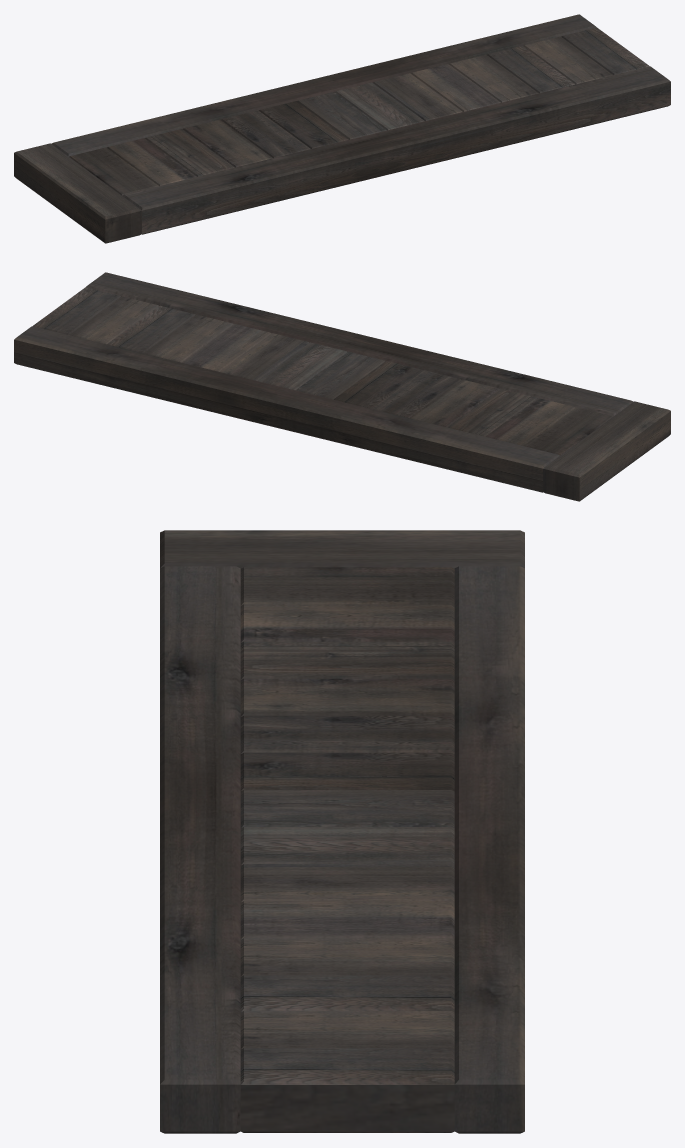
The model's file is SM_Unhyun_Norak_Floor_J001.fbx.
3 renders of one model, top to bottom at view 1: azimuth 30°, elevation 25°; view 2: azimuth 150°, elevation 25°; view 3: azimuth 270°, elevation 25°, orthographic. The views are drawn at different scales.
Parts seen in each view (by area): view 1: SM_Unhyun_Norak_Floor_J001; view 2: SM_Unhyun_Norak_Floor_J001; view 3: SM_Unhyun_Norak_Floor_J001.
Boxes of the visible parts, box(x1,y1,x2,y2) form: SM_Unhyun_Norak_Floor_J001: box(14, 14, 670, 243); SM_Unhyun_Norak_Floor_J001: box(14, 272, 670, 501); SM_Unhyun_Norak_Floor_J001: box(160, 530, 524, 1133).
Bounding box in the file's own units: 261 × 11.89 × 72.89.
